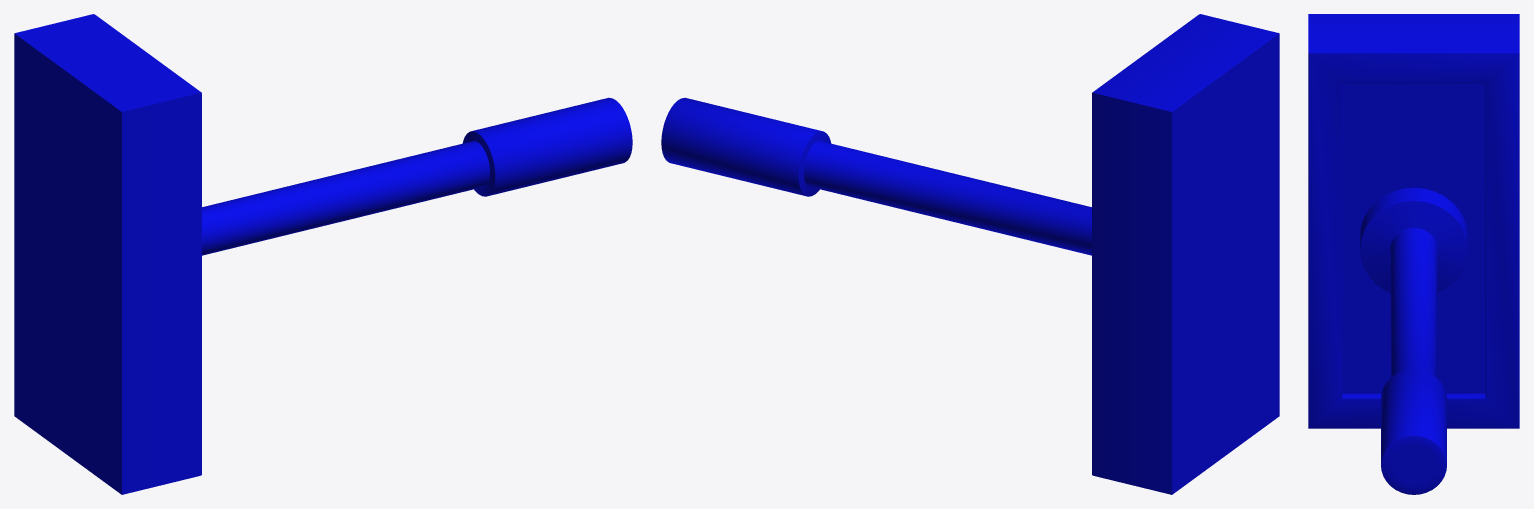
The model's file is Alavanca.fbx.
The picture shows the model from 3 angles, left to right: view 1: azimuth 30°, elevation 25°; view 2: azimuth 150°, elevation 25°; view 3: azimuth 270°, elevation 25°; orthographic projection.
Visible parts, largest first — view 1: Base, alavanca_transform; view 2: Base, alavanca_transform; view 3: Base, alavanca_transform.
Part boxes in pixels (x1,y1,x2,y2): Base: (14,14,201,494); alavanca_transform: (202,97,632,255); Base: (1092,14,1279,494); alavanca_transform: (661,97,1091,255); Base: (1308,14,1519,428); alavanca_transform: (1360,187,1467,494).
Size of the model in its own units: 479 by 320 by 163.
